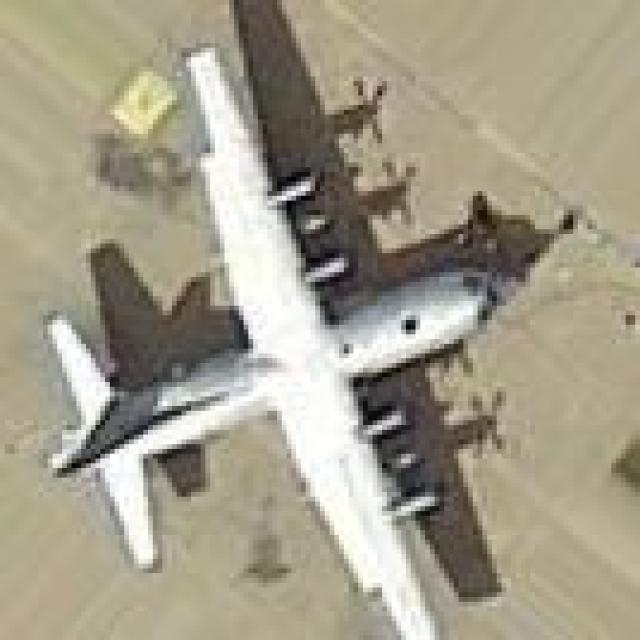C-130_TopDown: (34, 0, 586, 640)
